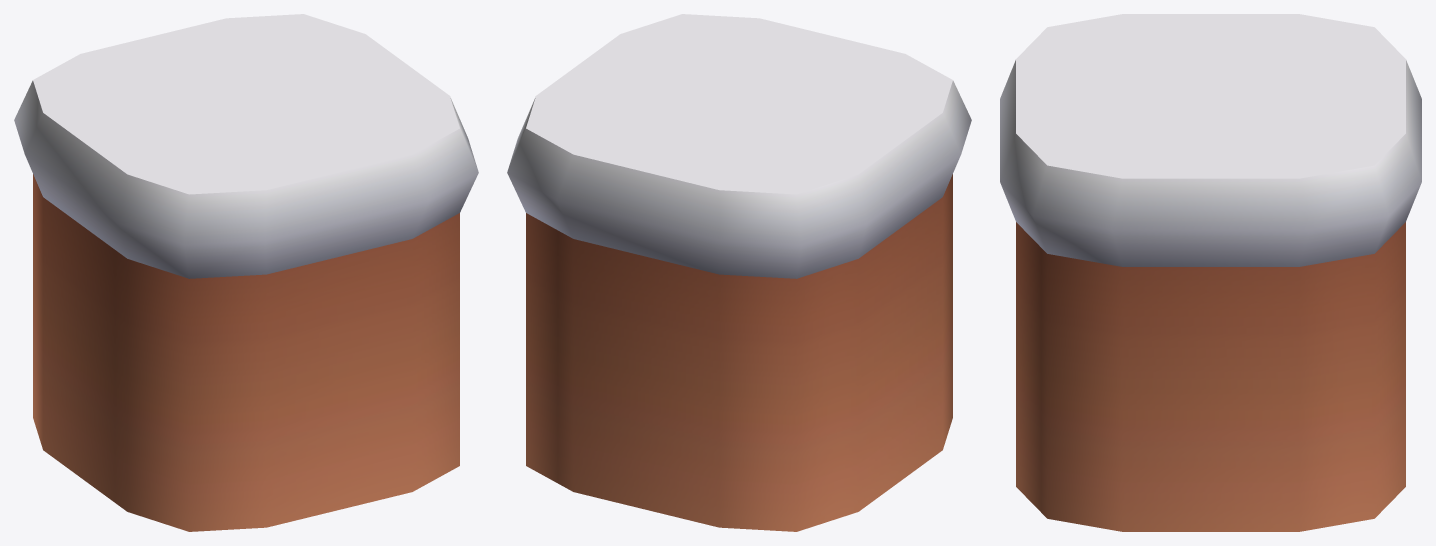
The model's file is kenney-platformer-block-snow.glb.
The picture shows the model from 3 angles, left to right: view 1: azimuth 30°, elevation 25°; view 2: azimuth 150°, elevation 25°; view 3: azimuth 270°, elevation 25°; orthographic projection. The views are drawn at different scales.
Visible parts, largest first — view 1: block-snow; view 2: block-snow; view 3: block-snow.
Boxes of the visible parts, x1,y1,x2,y2 form: block-snow: (14, 14, 478, 531); block-snow: (507, 14, 971, 531); block-snow: (1000, 14, 1421, 531).
Size of the model in its own units: 1.08 by 1 by 1.08.
1 material, 1 textured.
